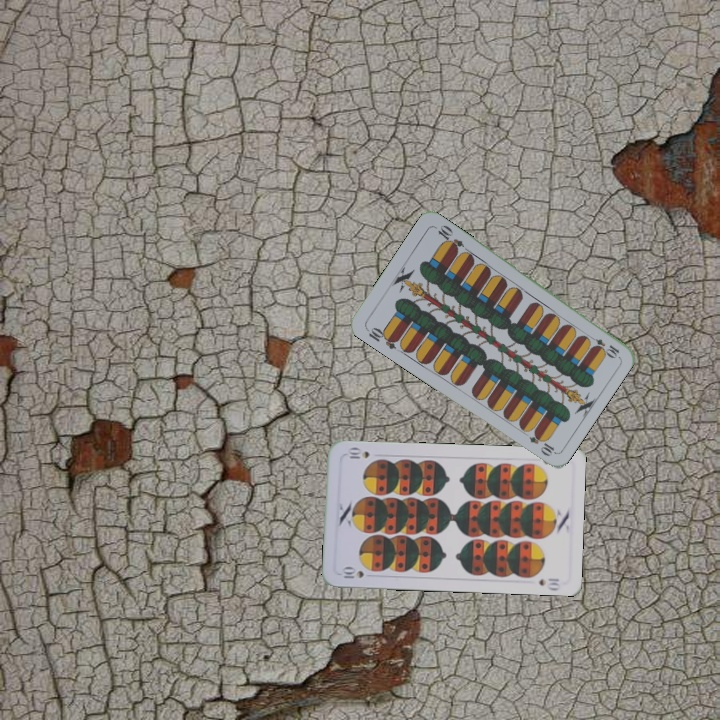E10: (362, 323, 401, 352), (584, 331, 622, 360)
S10: (336, 564, 366, 581)
